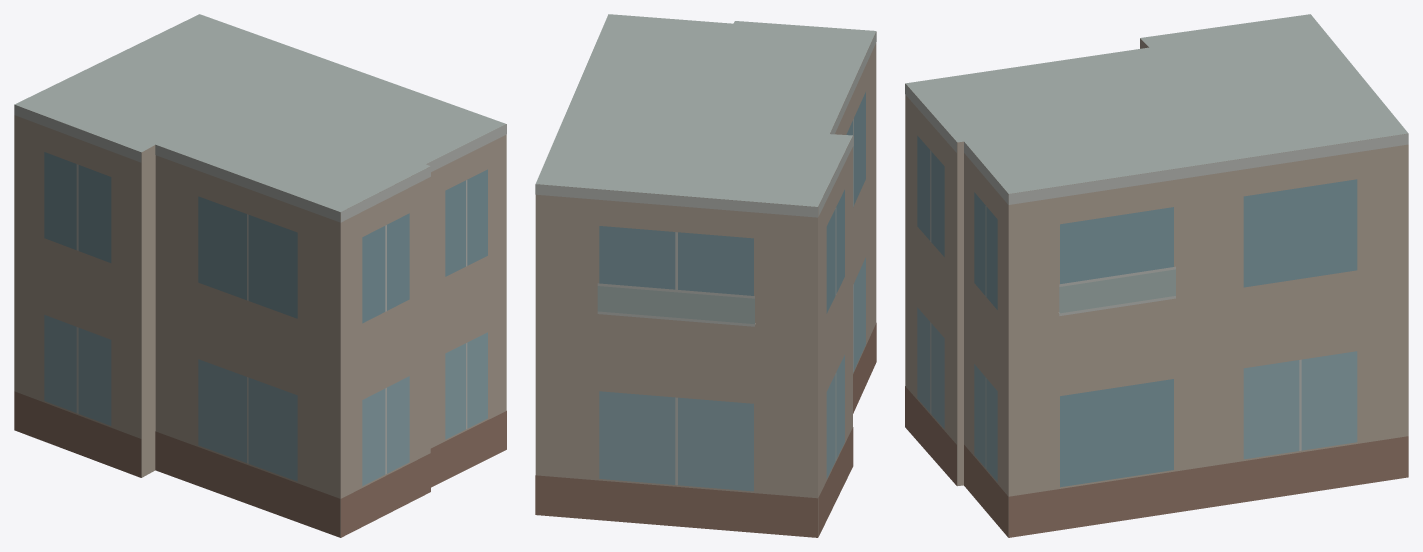
File: survey-upis-32545629.glb
3 renders of one model, left to right at view 1: azimuth 30°, elevation 25°; view 2: azimuth 150°, elevation 25°; view 3: azimuth 270°, elevation 25°, orthographic. The views are drawn at different scales.
Visible parts, largest first — view 1: survey-upis-32545629.tmp; view 2: survey-upis-32545629.tmp; view 3: survey-upis-32545629.tmp.
Part boxes in pixels (x1,y1,x2,y2): survey-upis-32545629.tmp: (14,14,506,537); survey-upis-32545629.tmp: (535,14,876,537); survey-upis-32545629.tmp: (905,14,1408,537).
Bounding box in the file's own units: 8.54 × 7.6 × 10.09.
